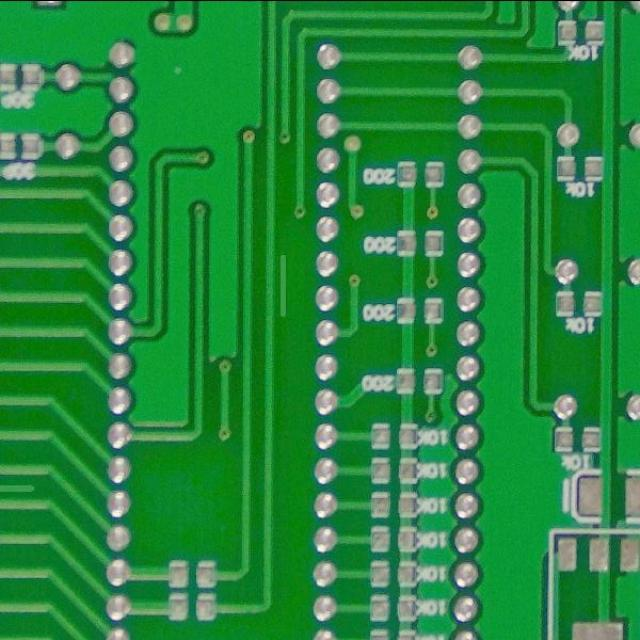Spurious_Cooper: (275, 250, 292, 322), (0, 478, 39, 496)
